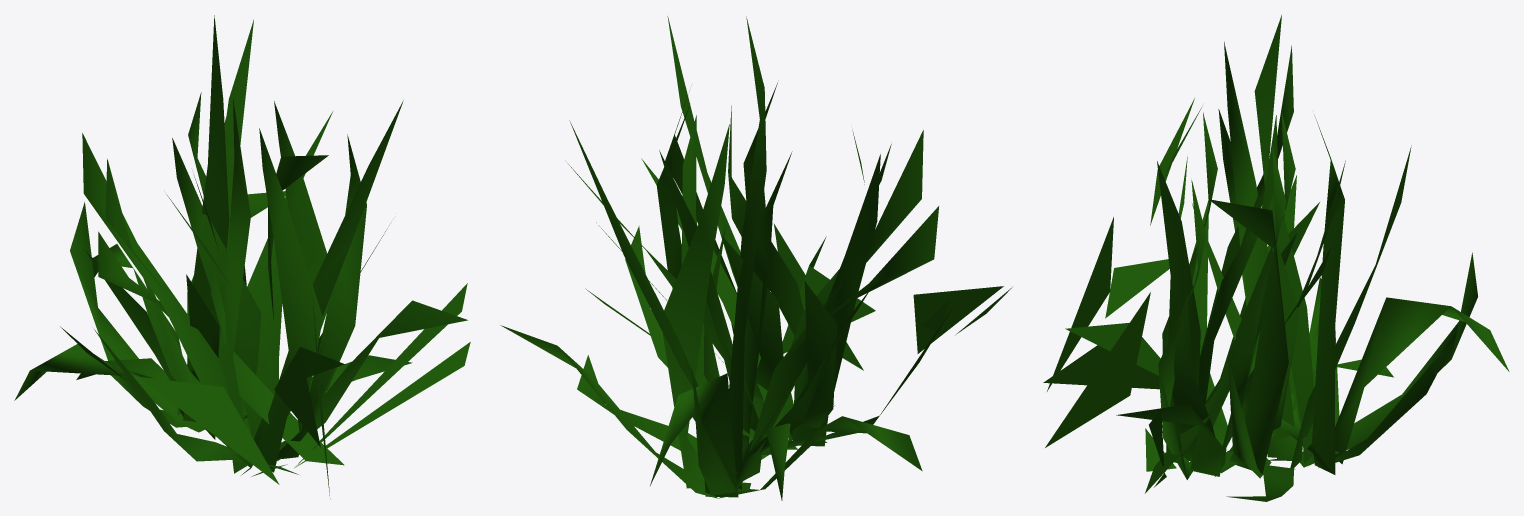
The model's file is plss.fbx.
The picture shows the model from 3 angles, left to right: view 1: azimuth 30°, elevation 25°; view 2: azimuth 150°, elevation 25°; view 3: azimuth 270°, elevation 25°; orthographic projection. The views are drawn at different scales.
Parts seen in each view (by area): view 1: grass1; view 2: grass1; view 3: grass1.
Part boxes in pixels (x1,y1,x2,y2): grass1: (14,15,470,498); grass1: (500,16,1012,500); grass1: (1043,15,1509,501).
Size of the model in its own units: 198 by 198 by 188.
